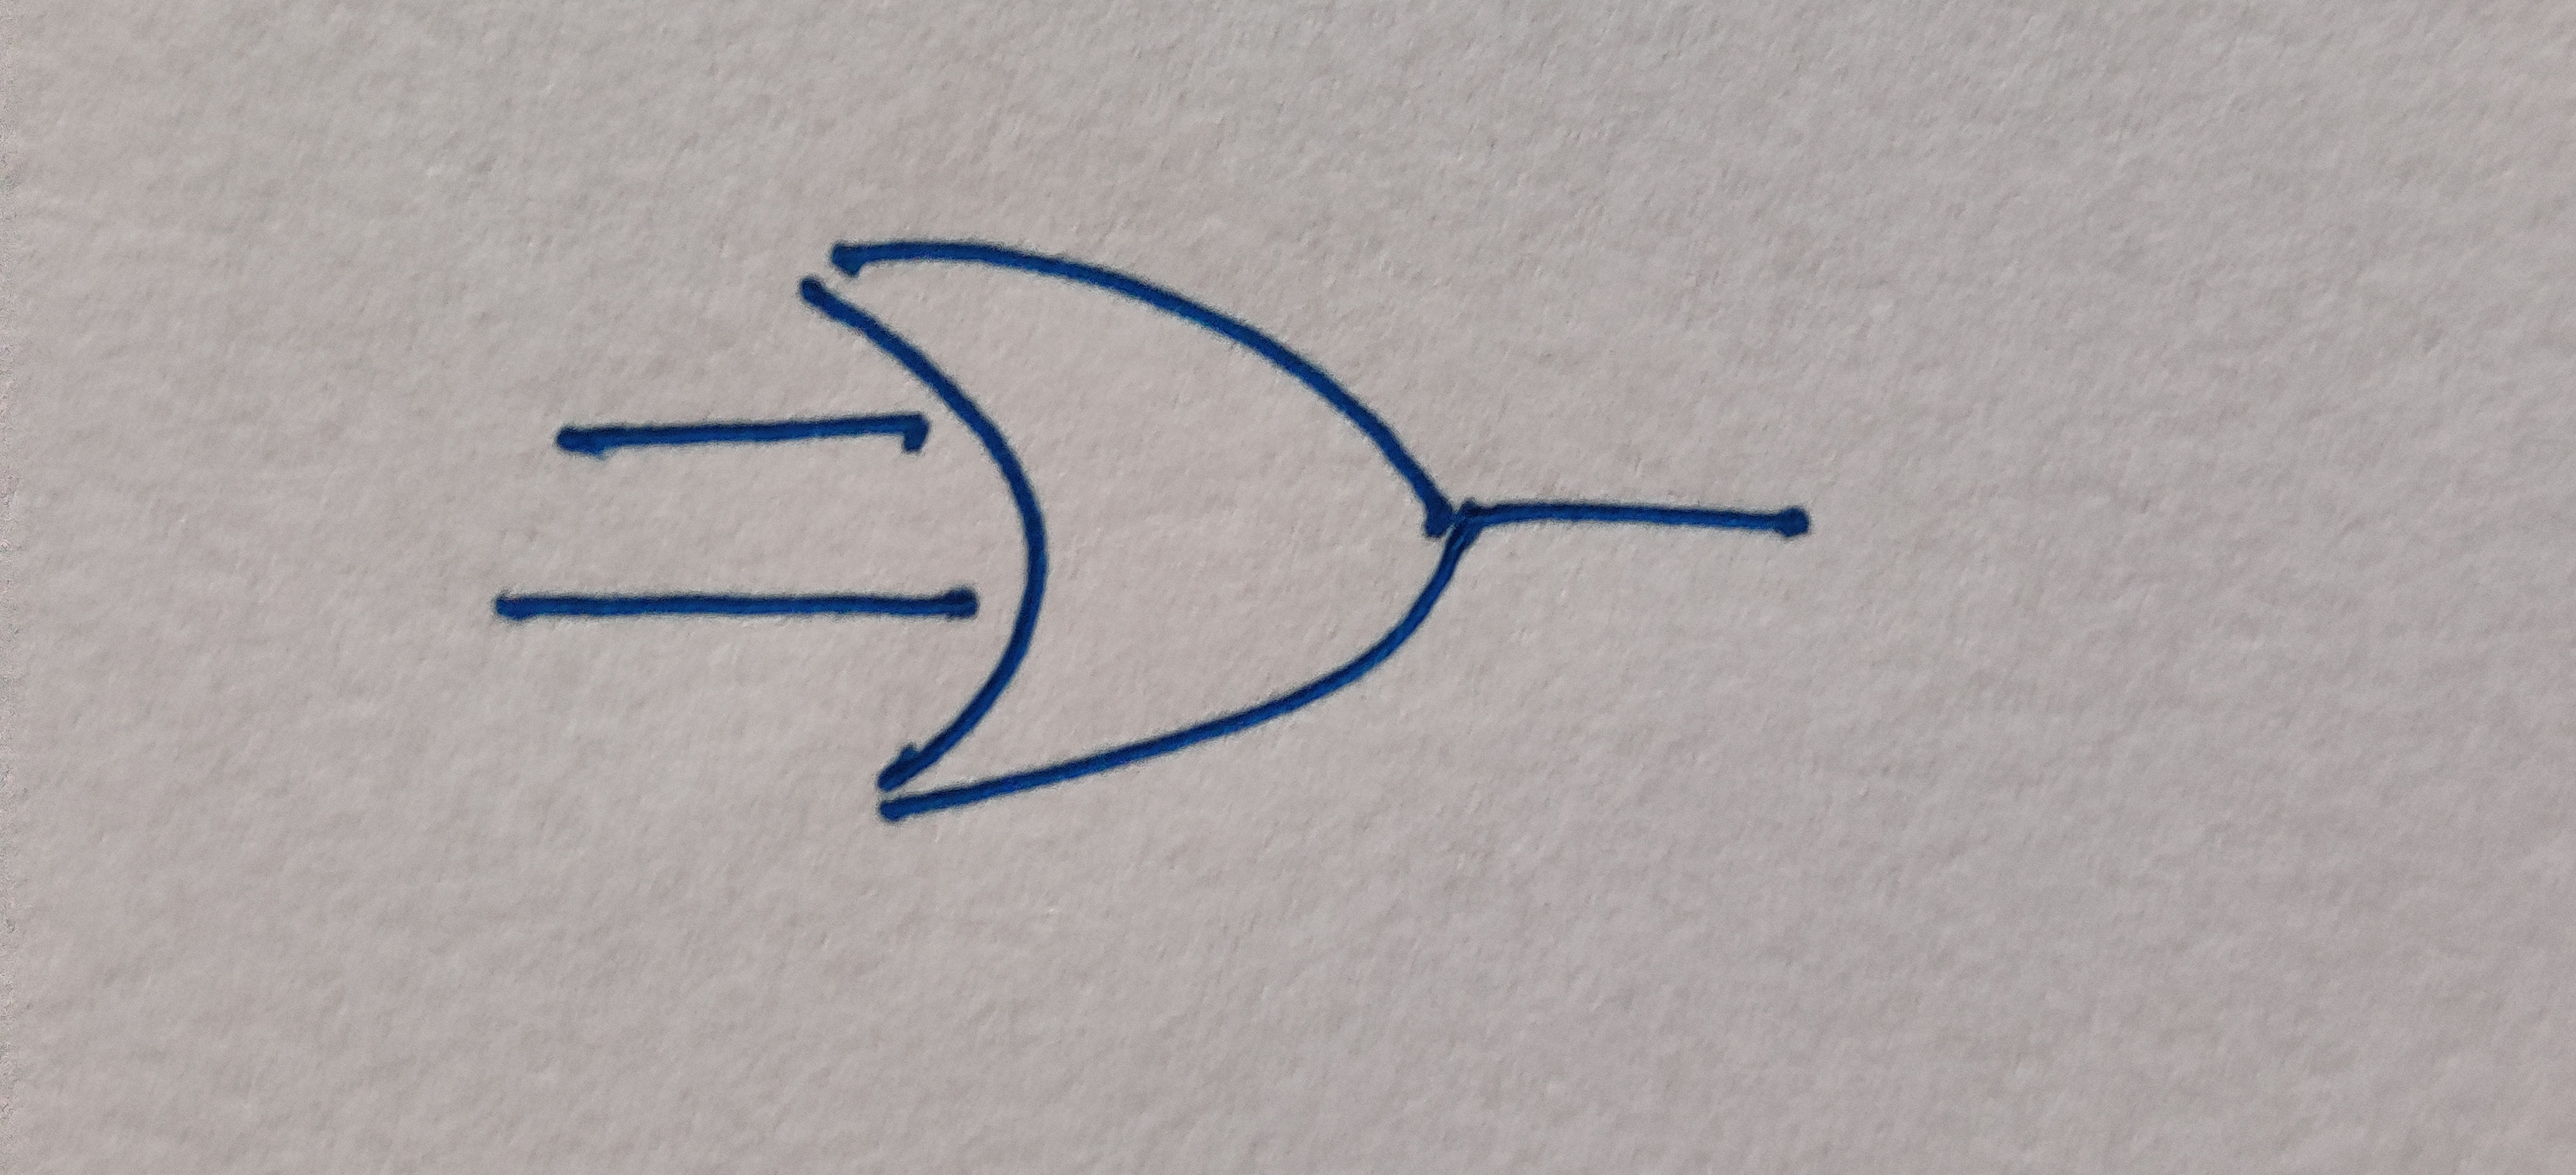or: (797, 242, 1475, 820)
